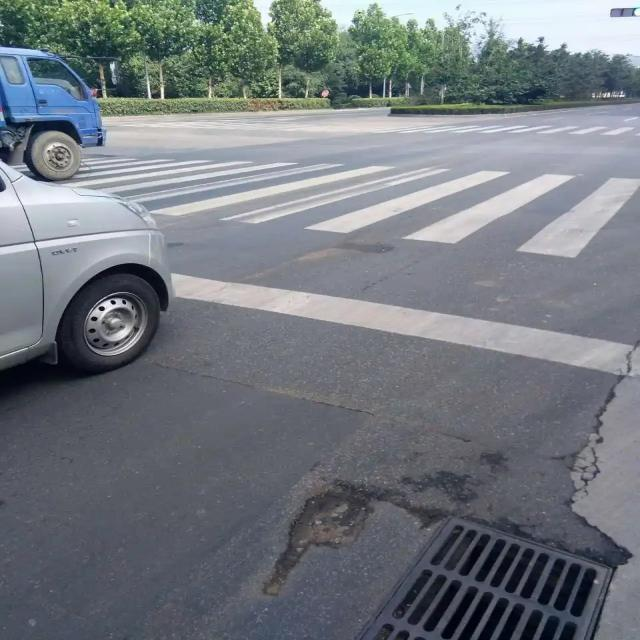Pothole: (262, 480, 374, 597)
